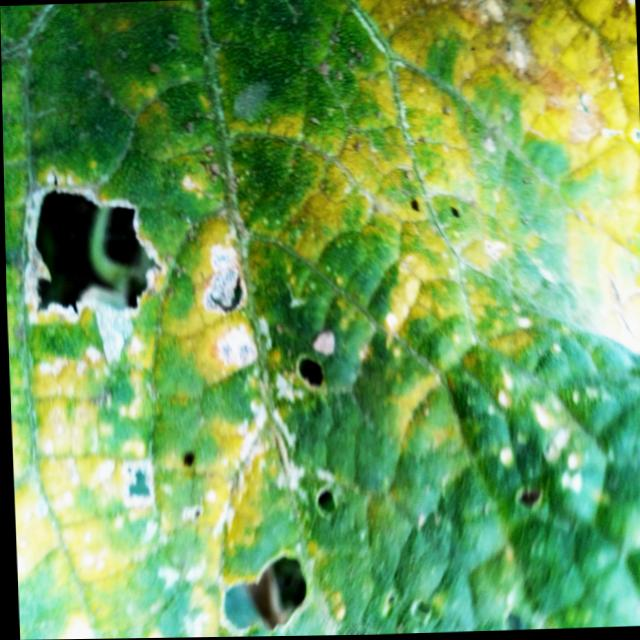Anthracnose: (19, 175, 163, 317), (211, 545, 313, 637), (295, 345, 329, 389), (314, 485, 340, 520)
